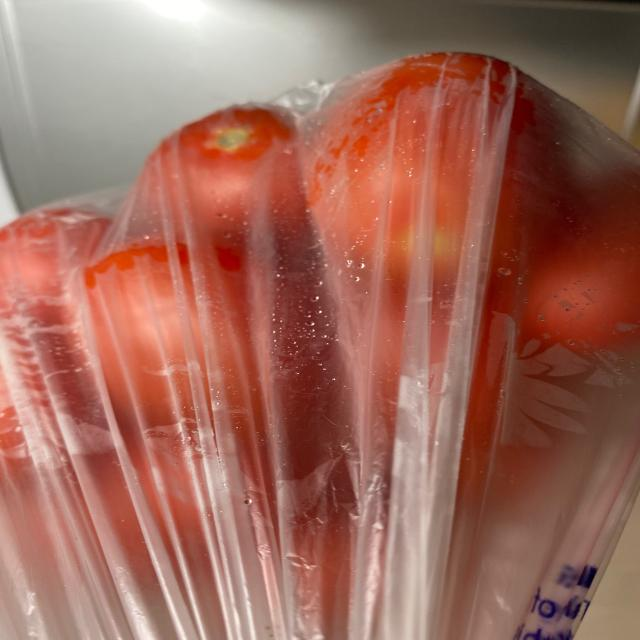tomato: (0, 59, 635, 577)
